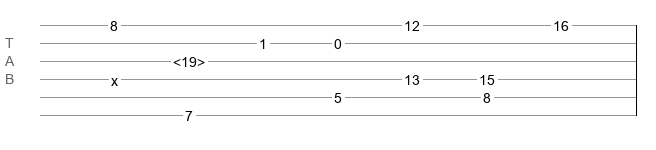0: (334, 36, 342, 46)
1: (259, 36, 267, 46)
12: (404, 18, 420, 28)
13: (404, 72, 420, 82)
15: (479, 72, 495, 82)
16: (553, 18, 569, 28)
5: (334, 90, 342, 100)
7: (185, 108, 193, 118)
8: (110, 18, 118, 28), (483, 90, 491, 100)
harmonic: (173, 54, 205, 64)
x: (111, 73, 118, 81)
